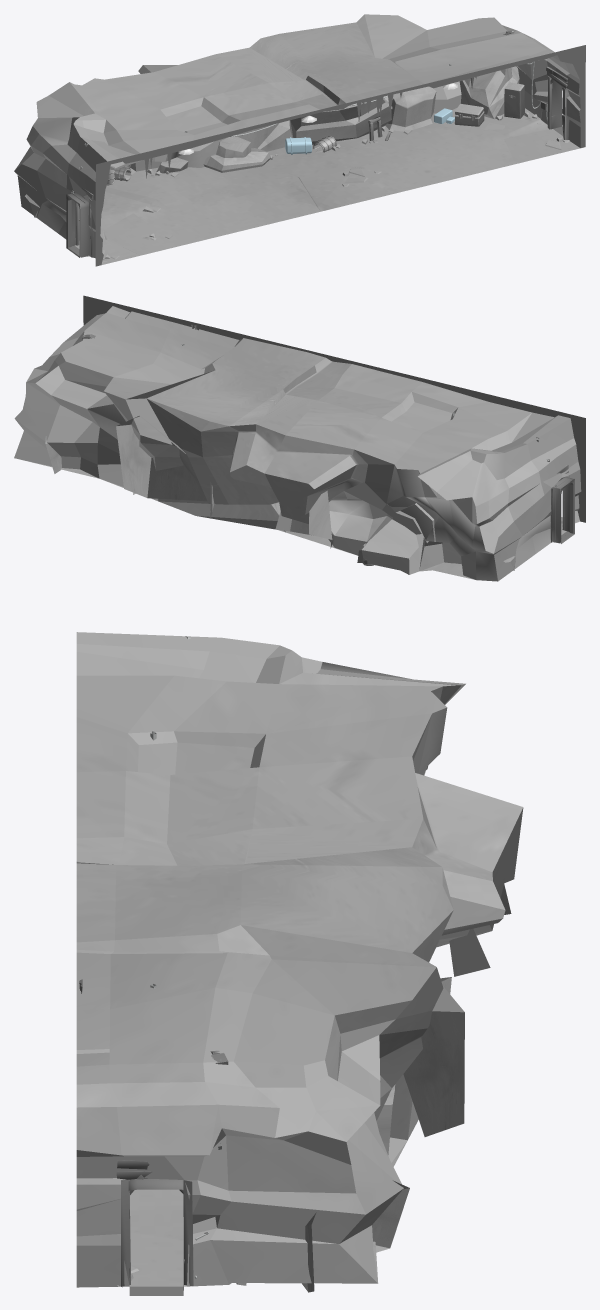
File: MSH_QuestCave_L2_R3_optimized.fbx
3 views of the same model, one above another, from view 1: azimuth 30°, elevation 25°; view 2: azimuth 150°, elevation 25°; view 3: azimuth 270°, elevation 25° (orthographic). The views are drawn at different scales.
Visible parts, largest first — view 1: lightmap4, lightmap1, lightmap0; view 2: lightmap4, lightmap1; view 3: lightmap4, lightmap1.
Boxes of the visible parts, x1,y1,x2,y2 form: lightmap4: (14,14,585,266); lightmap1: (66,66,569,257); lightmap0: (72,30,547,193); lightmap4: (14,295,585,581); lightmap1: (362,464,574,565); lightmap4: (76,632,523,1292); lightmap1: (116,1160,193,1295).
Size of the model in its own units: 30.95 by 6.44 by 12.07.
Materials: 2 (1 with a texture image).
